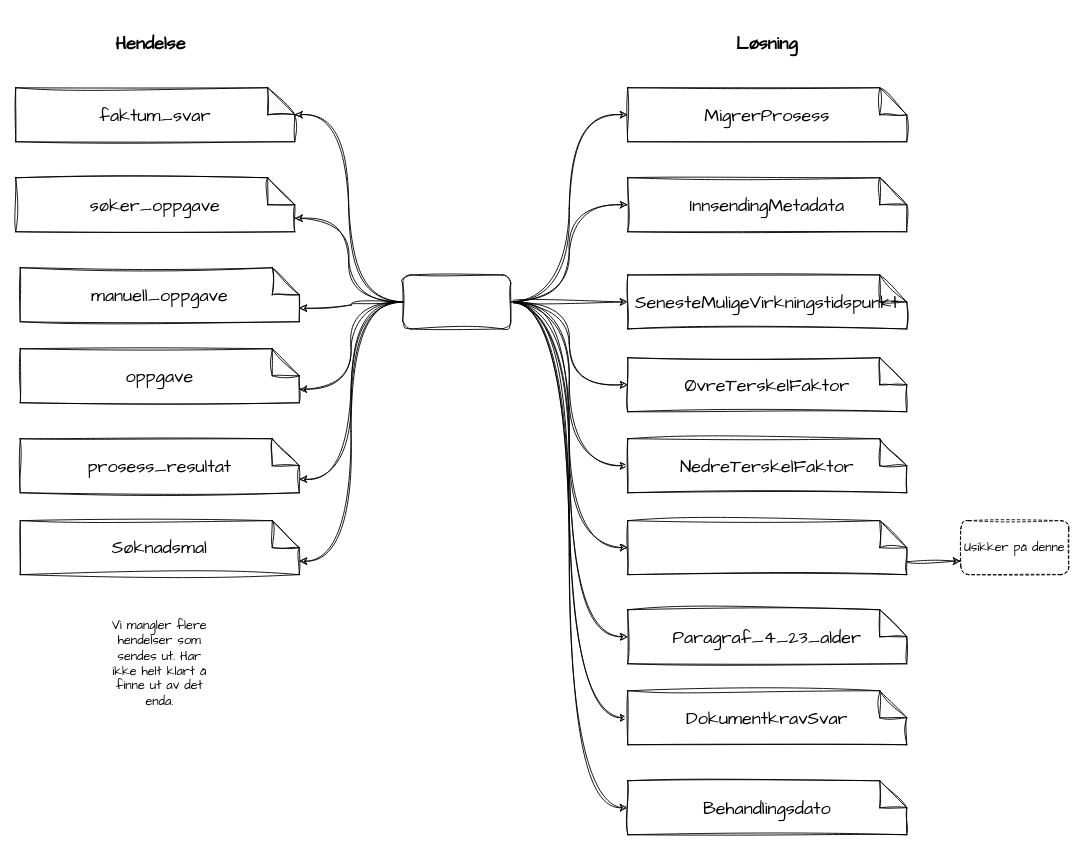
The diagram is 1085 pixels wide and 851 high, and some of its shapes have lost their labels. The centre of each missing label's shape, as x and y in pixels:
dp-quiz: the point at 456,301
NySøknad: the point at 767,547
